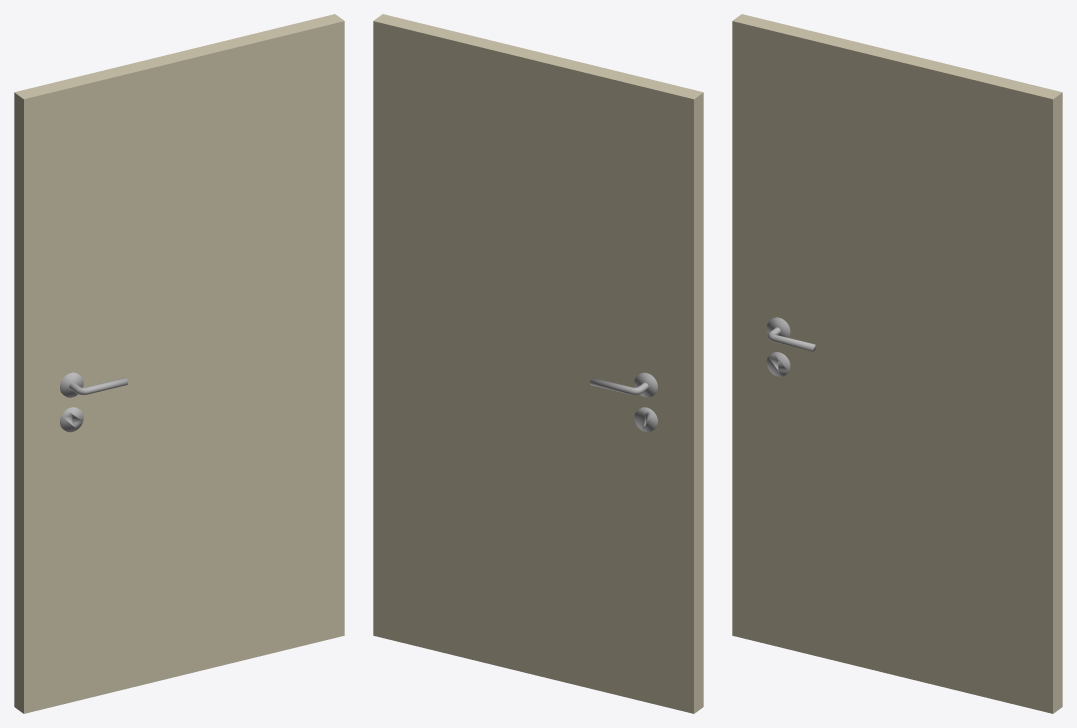
The model's file is Door2.fbx.
The picture shows the model from 3 angles, left to right: view 1: azimuth 30°, elevation 25°; view 2: azimuth 150°, elevation 25°; view 3: azimuth 330°, elevation 25°; orthographic projection.
Visible parts, largest first — view 1: Door.005; view 2: Door.005; view 3: Door.005.
Boxes of the visible parts, x1,y1,x2,y2 form: Door.005: (14,14,344,713); Door.005: (373,14,703,713); Door.005: (732,14,1062,713).
Bounding box in the file's own units: 148 × 272 × 27.09.
